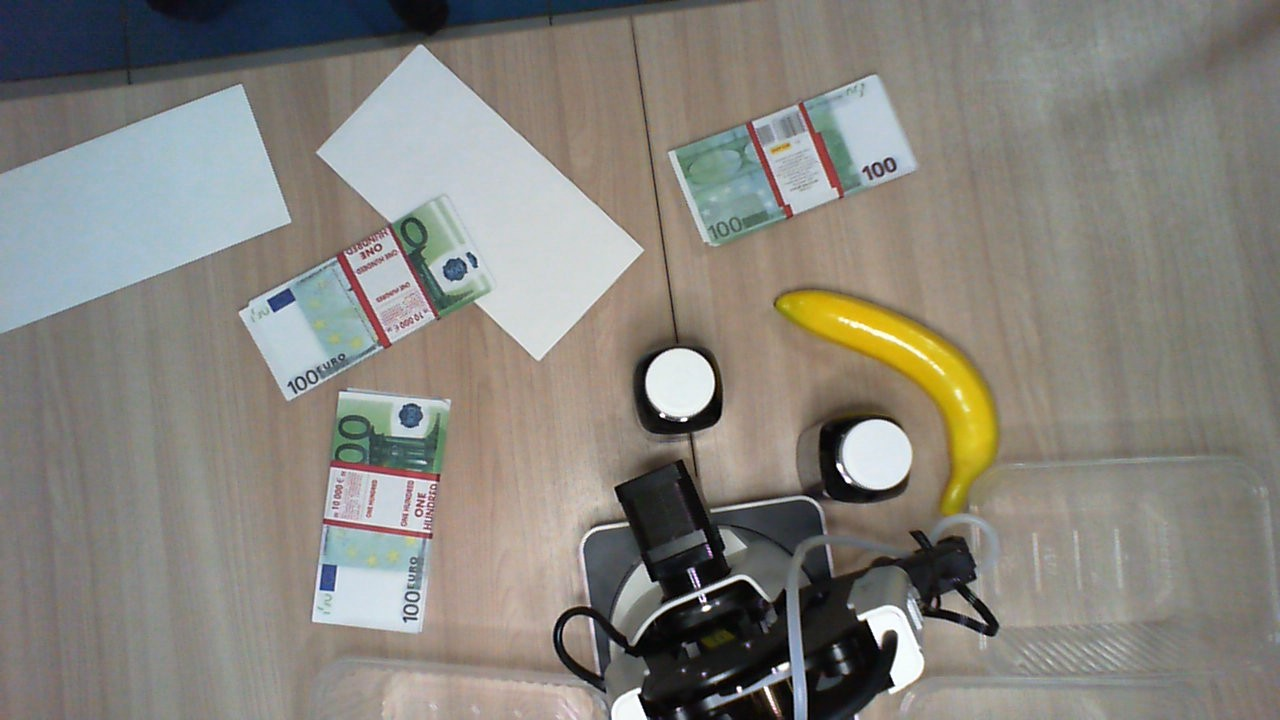banana: (777, 251, 1008, 520)
bottle: (793, 409, 916, 513), (629, 339, 727, 440)
convert: (319, 35, 643, 363), (1, 81, 289, 337)
money: (237, 193, 494, 405), (662, 65, 915, 250), (303, 389, 455, 636)
